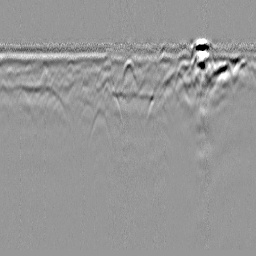cavity: (119, 55, 138, 87)
